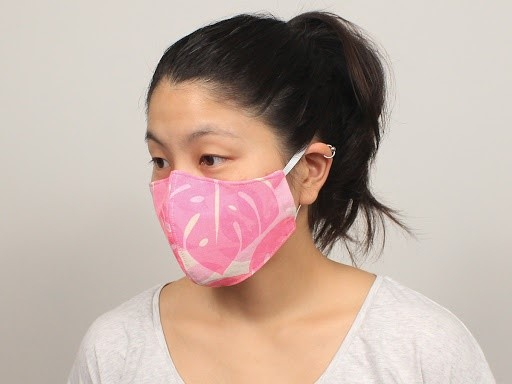face_with_mask: (140, 52, 343, 285)
